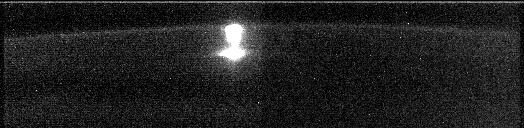positive: (221, 23, 245, 50)
